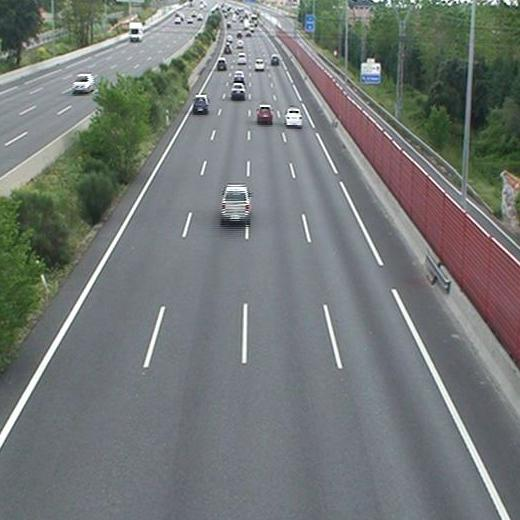car: (222, 185, 250, 221), (286, 108, 303, 126), (193, 95, 208, 112), (257, 106, 272, 122), (231, 83, 245, 97), (234, 70, 244, 82), (216, 58, 226, 69), (255, 60, 265, 69), (237, 54, 247, 63), (270, 56, 278, 64), (223, 45, 230, 52)
